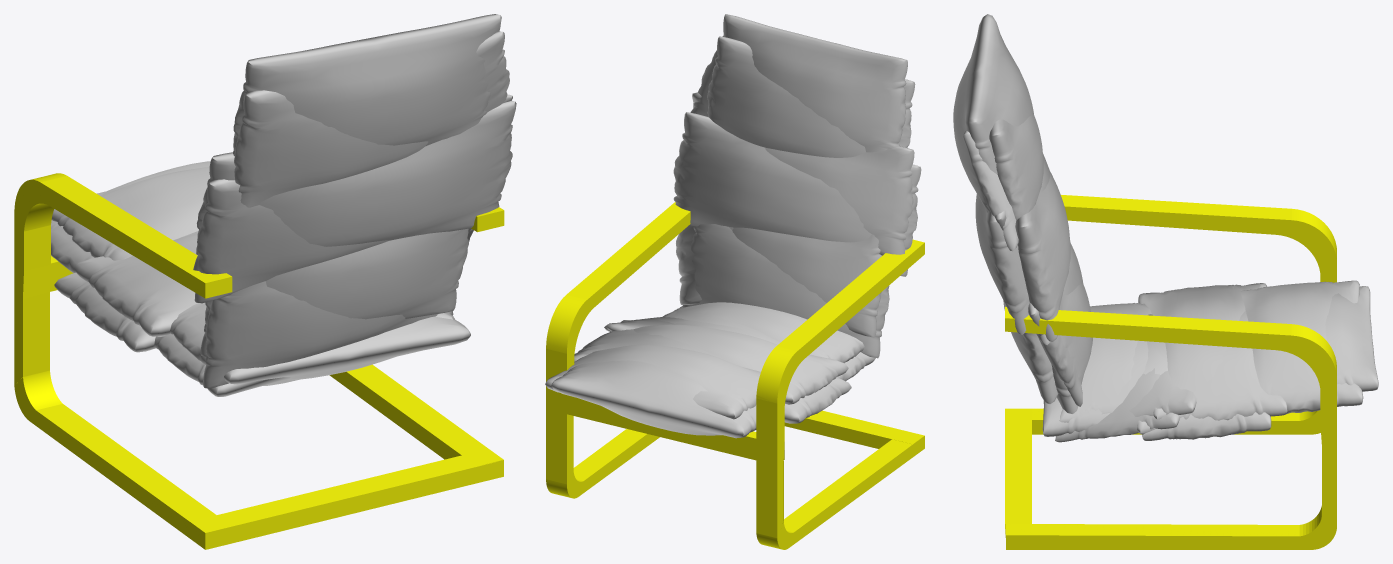
3 views of the same model, side by side, from view 1: azimuth 30°, elevation 25°; view 2: azimuth 150°, elevation 25°; view 3: azimuth 270°, elevation 25° (orthographic). The views are drawn at different scales.
Visible parts, largest first — view 1: mesh1_mesh1-geometry, mesh9_mesh9-geometry, mesh10_mesh10-geometry, mesh12_mesh12-geometry, mesh17_mesh17-geometry, mesh14_mesh14-geometry, mesh15_mesh15-geometry, mesh4_mesh4-geometry, mesh7_mesh7-geometry, mesh5_mesh5-geometry, mesh20_mesh20-geometry, mesh19_mesh19-geometry (+2 smaller); view 2: mesh1_mesh1-geometry, mesh15_mesh15-geometry, mesh9_mesh9-geometry, mesh17_mesh17-geometry, mesh22_mesh22-geometry, mesh14_mesh14-geometry, mesh10_mesh10-geometry, mesh12_mesh12-geometry, mesh7_mesh7-geometry, mesh5_mesh5-geometry, mesh4_mesh4-geometry, mesh20_mesh20-geometry (+5 smaller); view 3: mesh1_mesh1-geometry, mesh7_mesh7-geometry, mesh5_mesh5-geometry, mesh9_mesh9-geometry, mesh15_mesh15-geometry, mesh4_mesh4-geometry, mesh20_mesh20-geometry, mesh17_mesh17-geometry, mesh22_mesh22-geometry, mesh10_mesh10-geometry, mesh6_mesh6-geometry, mesh12_mesh12-geometry (+6 smaller).
Boxes of the visible parts, x1,y1,x2,y2 form: mesh1_mesh1-geometry: (14,173,504,549); mesh9_mesh9-geometry: (233,14,501,155); mesh10_mesh10-geometry: (193,100,516,270); mesh12_mesh12-geometry: (200,228,468,356); mesh17_mesh17-geometry: (234,90,428,207); mesh14_mesh14-geometry: (203,281,438,388); mesh15_mesh15-geometry: (194,179,389,303); mesh4_mesh4-geometry: (170,302,470,384); mesh7_mesh7-geometry: (51,167,210,260); mesh5_mesh5-geometry: (74,233,197,336); mesh20_mesh20-geometry: (54,231,198,352); mesh19_mesh19-geometry: (154,312,453,396); mesh1_mesh1-geometry: (546,202,924,549); mesh15_mesh15-geometry: (673,112,921,276); mesh9_mesh9-geometry: (722,14,907,152); mesh17_mesh17-geometry: (707,36,915,157); mesh22_mesh22-geometry: (551,360,756,438); mesh14_mesh14-geometry: (682,224,889,358); mesh10_mesh10-geometry: (693,103,914,255); mesh12_mesh12-geometry: (732,227,881,337); mesh7_mesh7-geometry: (545,344,760,419); mesh5_mesh5-geometry: (574,324,848,404); mesh4_mesh4-geometry: (662,302,864,362); mesh20_mesh20-geometry: (574,329,851,423); mesh1_mesh1-geometry: (1005,195,1336,549); mesh7_mesh7-geometry: (1240,280,1363,413); mesh5_mesh5-geometry: (1138,283,1271,440); mesh9_mesh9-geometry: (953,14,1033,212); mesh15_mesh15-geometry: (1015,172,1070,341); mesh4_mesh4-geometry: (1042,303,1151,436); mesh20_mesh20-geometry: (1179,311,1287,420); mesh17_mesh17-geometry: (989,114,1043,219); mesh22_mesh22-geometry: (1325,286,1378,391); mesh10_mesh10-geometry: (975,154,1050,334); mesh6_mesh6-geometry: (1055,368,1179,442); mesh12_mesh12-geometry: (1003,242,1083,403).
Size of the model in its own units: 0.4516 by 0.6596 by 0.6008.
